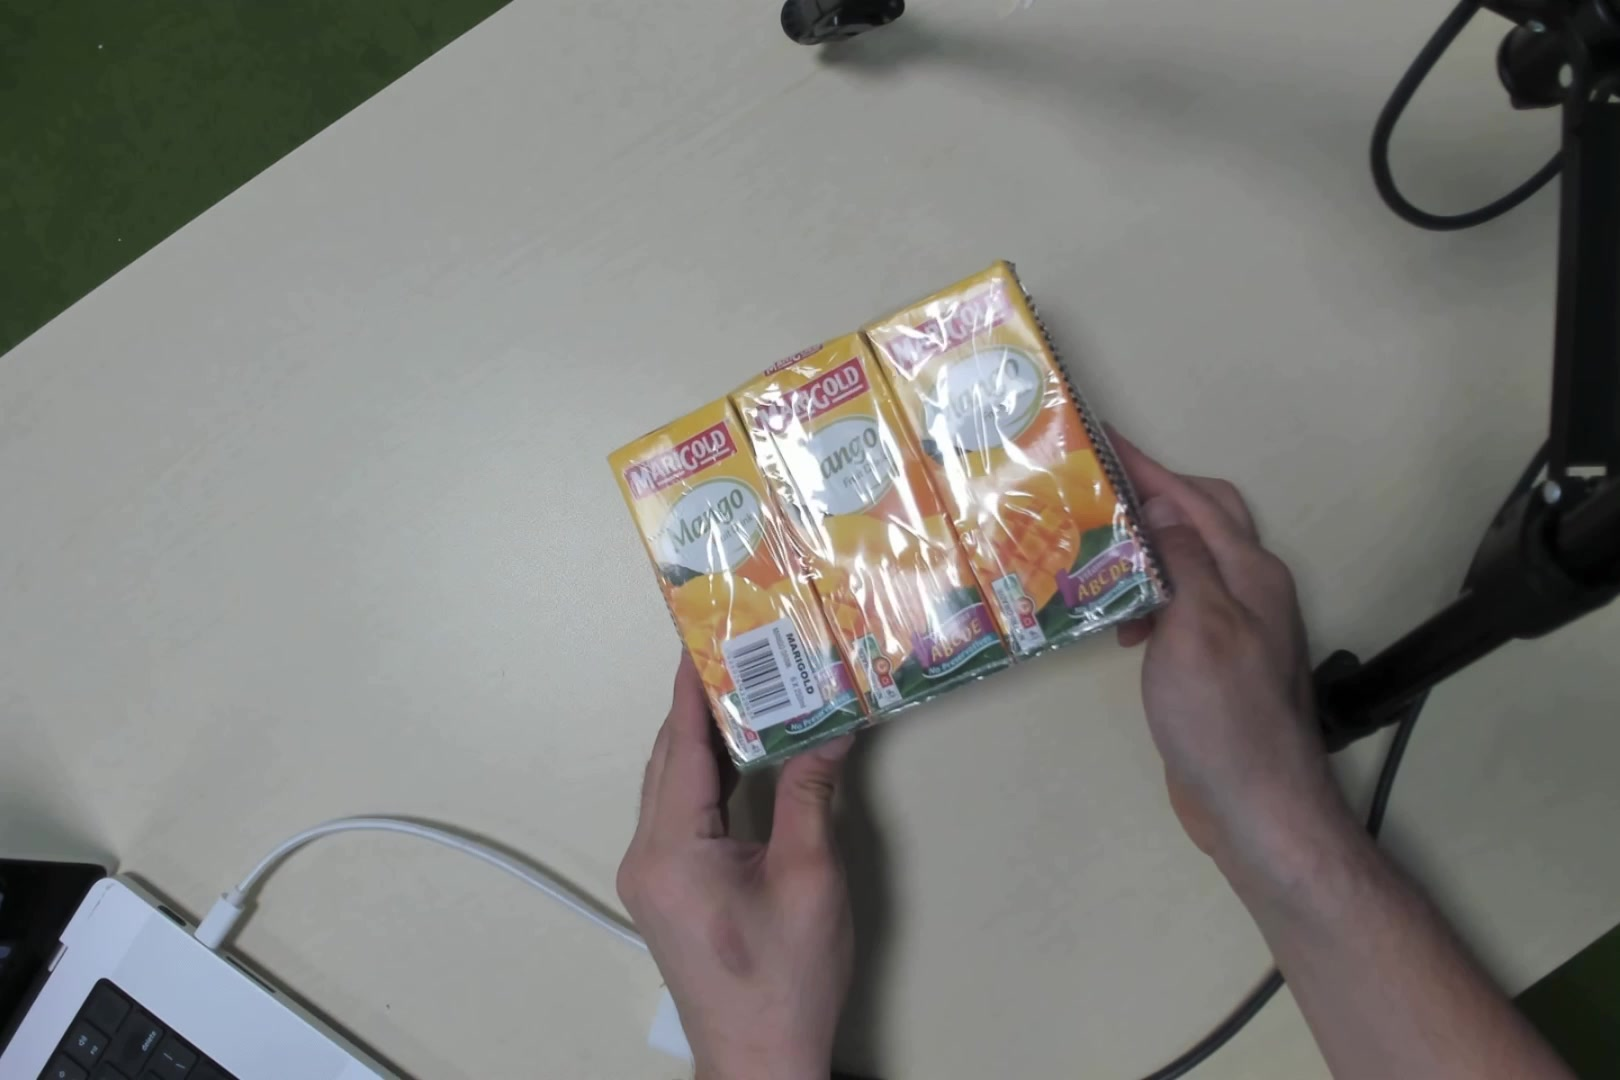FruitJuice_700-799g_Halal_NonHealthy: (638, 256, 1149, 747)
